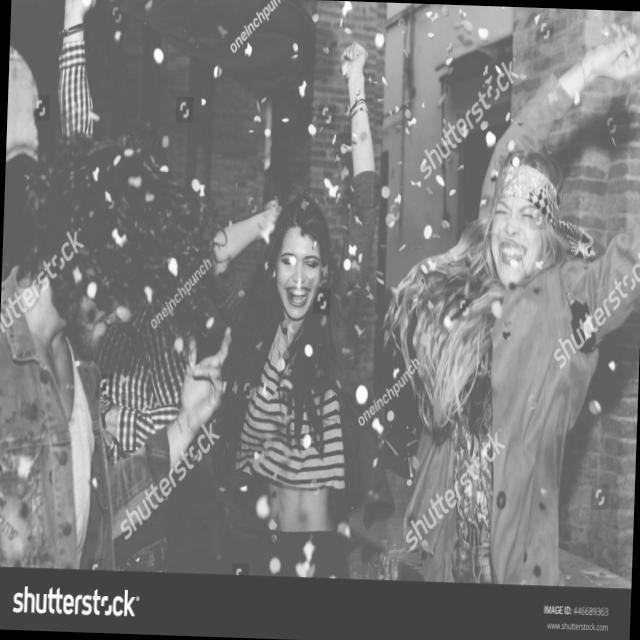person: (367, 101, 640, 588), (396, 33, 622, 584), (0, 153, 242, 579), (156, 200, 382, 562)
